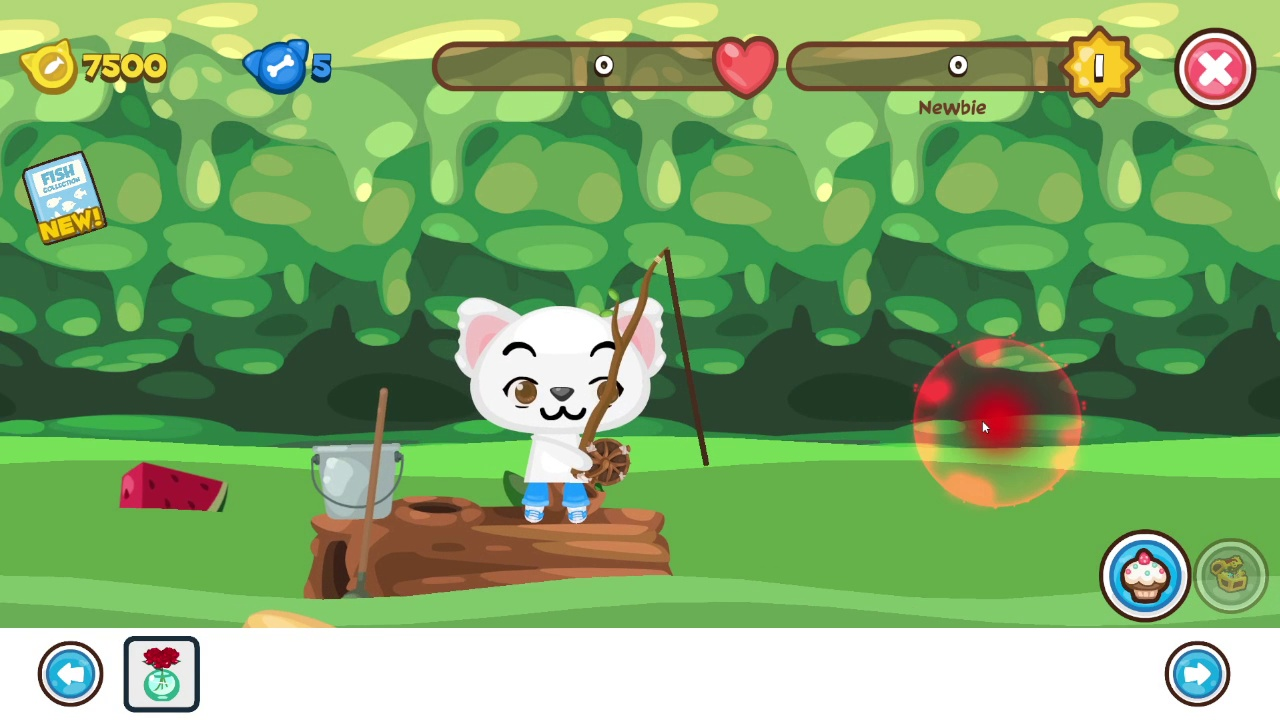point: (910, 332, 1086, 506)
